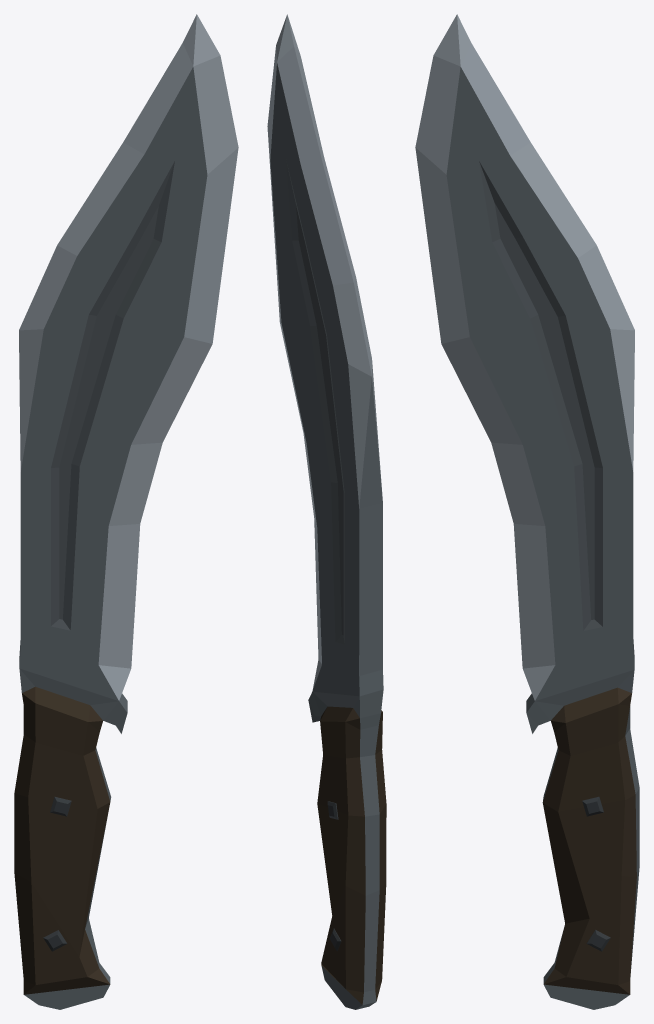
Rendered from SM_Wep_Knife_Kukri_01.fbx.
The picture shows the model from 3 angles, left to right: view 1: azimuth 90°, elevation 25°; view 2: azimuth 210°, elevation 25°; view 3: azimuth 270°, elevation 25°; orthographic projection. The views are drawn at different scales.
Parts seen in each view (by area): view 1: SM_Wep_Knife_Kukri_01; view 2: SM_Wep_Knife_Kukri_01; view 3: SM_Wep_Knife_Kukri_01.
Part boxes in pixels (x1,y1,x2,y2): SM_Wep_Knife_Kukri_01: (14, 14, 238, 1009); SM_Wep_Knife_Kukri_01: (267, 14, 386, 1009); SM_Wep_Knife_Kukri_01: (415, 14, 639, 1009).
Size of the model in its own units: 3.01 by 65.01 by 13.31.
